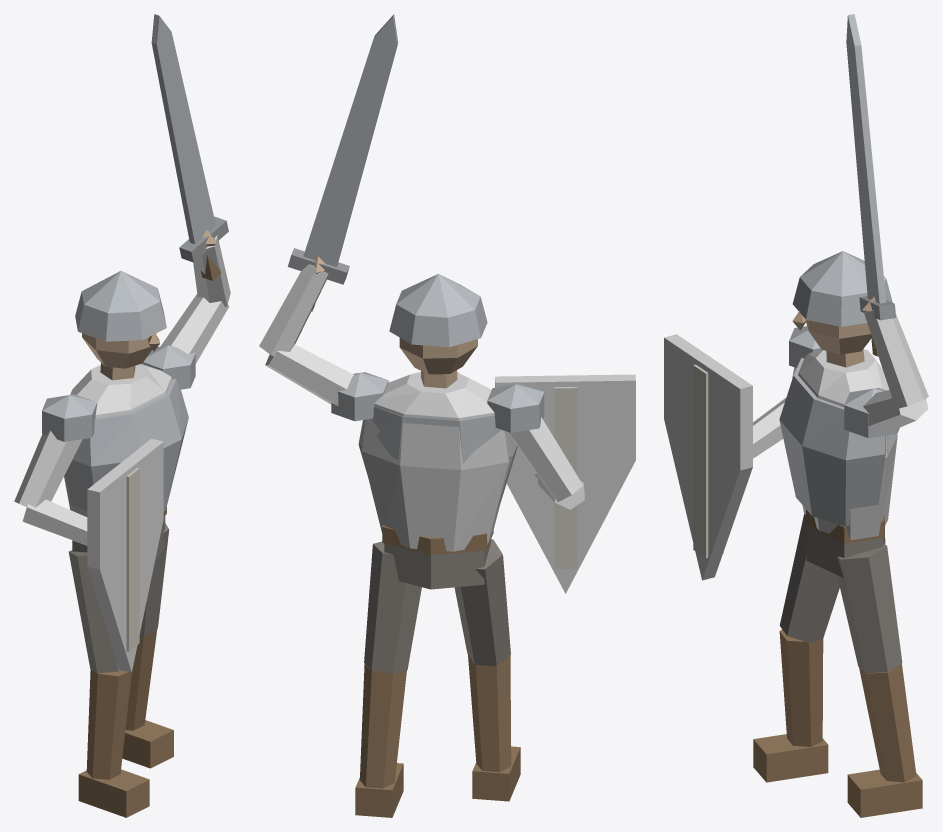
File: longswordsman.glb
3 views of the same model, side by side, from view 1: azimuth 30°, elevation 25°; view 2: azimuth 150°, elevation 25°; view 3: azimuth 270°, elevation 25° (orthographic). The views are drawn at different scales.
Parts seen in each view (by area): view 1: LOD0; view 2: LOD0; view 3: LOD0.
Boxes of the visible parts, x1,y1,x2,y2 form: LOD0: (14,14,230,817); LOD0: (259,14,635,817); LOD0: (664,14,928,817).
Size of what is drawn, in the model's own units: 0.5318 by 1.46 by 0.4421.
